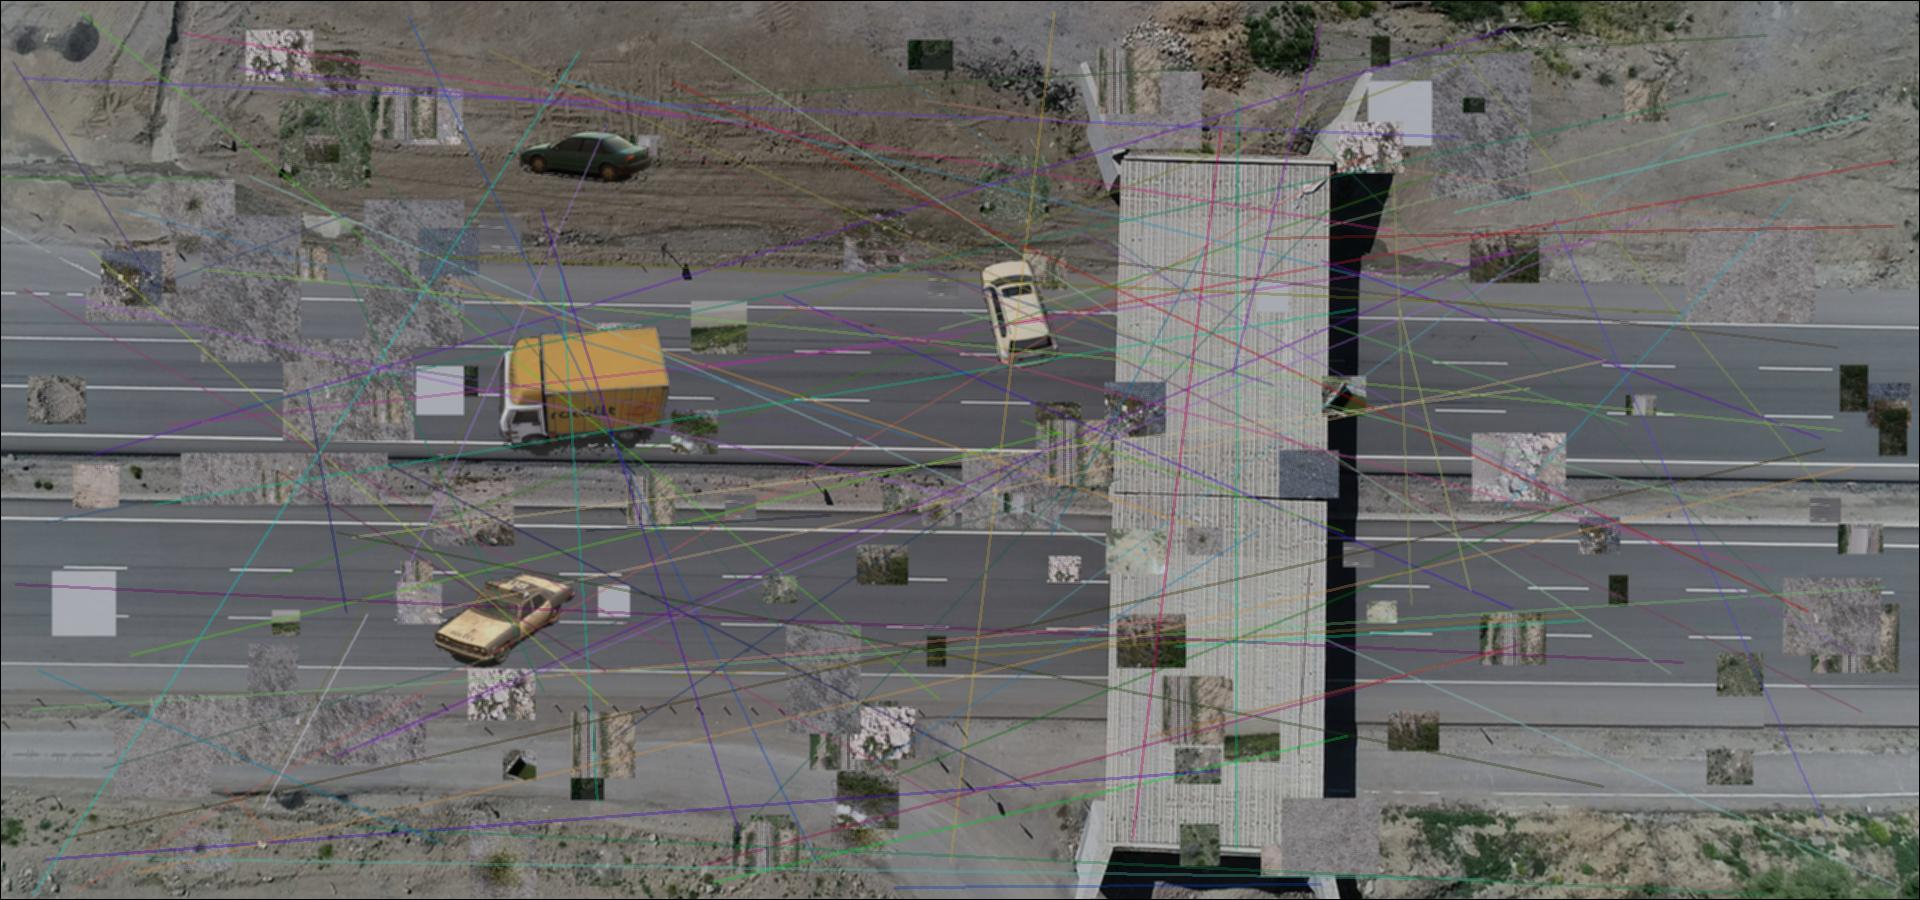arac: (493, 327, 669, 456), (433, 569, 578, 675), (973, 260, 1060, 369), (520, 129, 653, 182)
